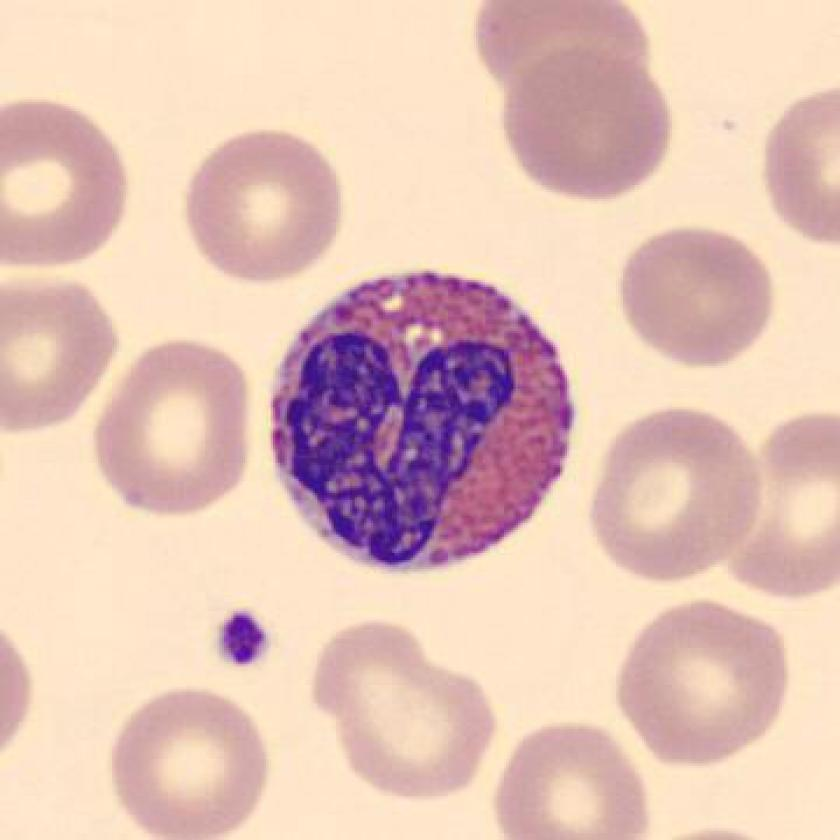eosinophil: (255, 263, 589, 584)
